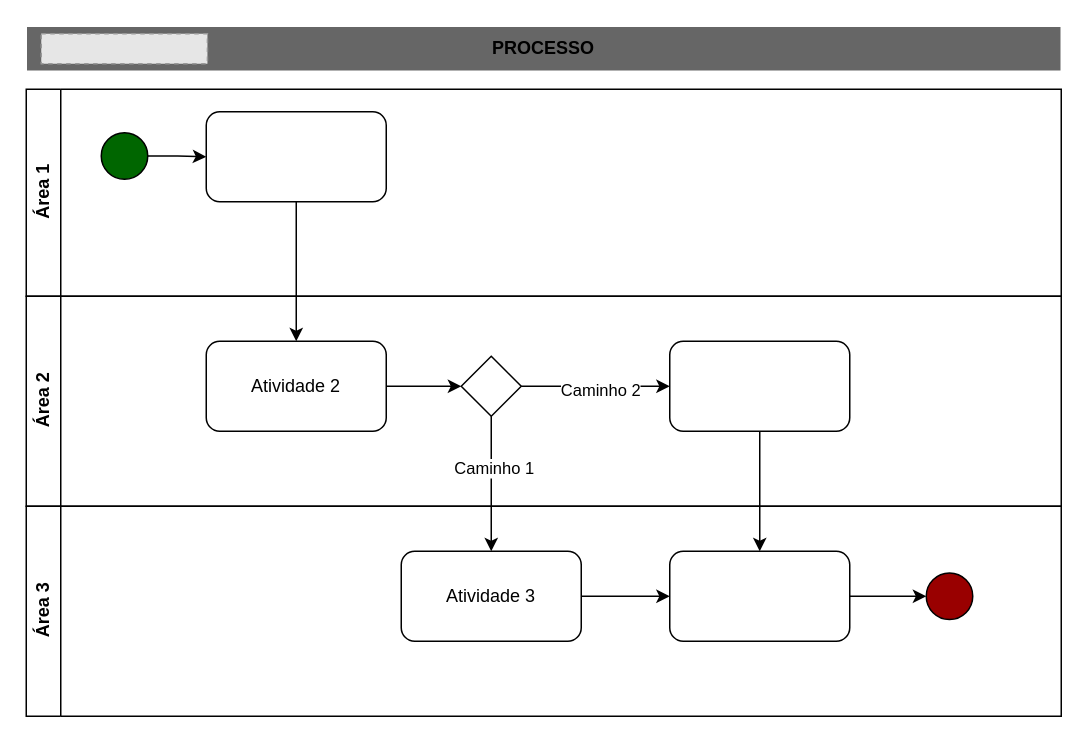
Image size: 1088x743. Some labels were removed from this diagram. Grey dashed boxes stand in for pictures. The shapes that lost their labels are listed below. From the top down, each one's centre as x and y in pixels, then its label:
At pixel 295 156: "Atividade 1".
At pixel 759 385: "Atividade 4".
At pixel 759 595: "Atividade 5".
